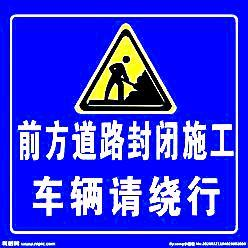sign: (7, 8, 240, 237)
